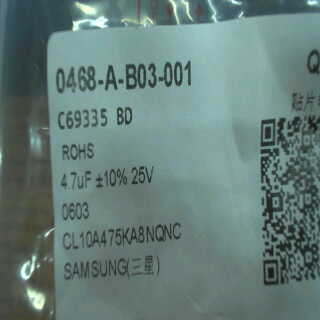4.7uF: (56, 166, 91, 198)
